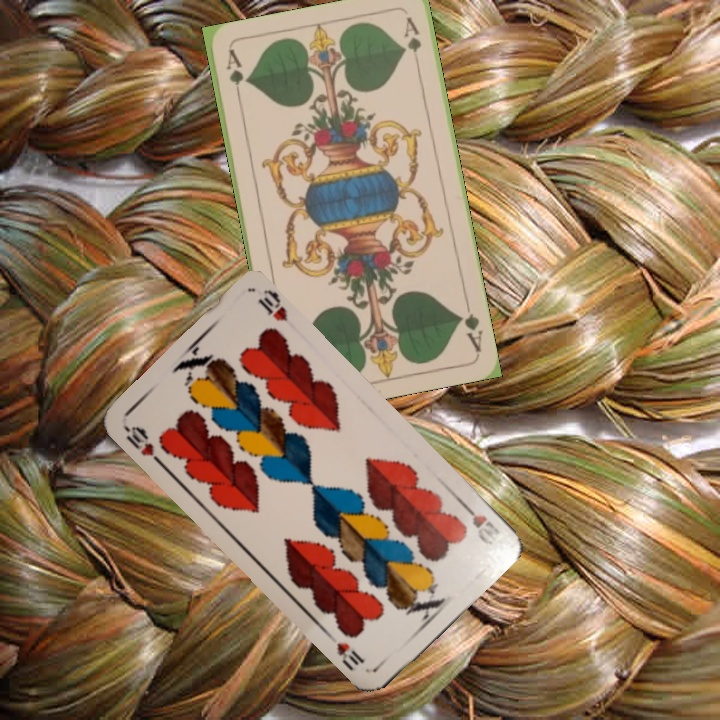GA: (454, 296, 485, 355), (222, 46, 246, 105)
H10: (120, 422, 167, 469), (457, 498, 503, 541)
